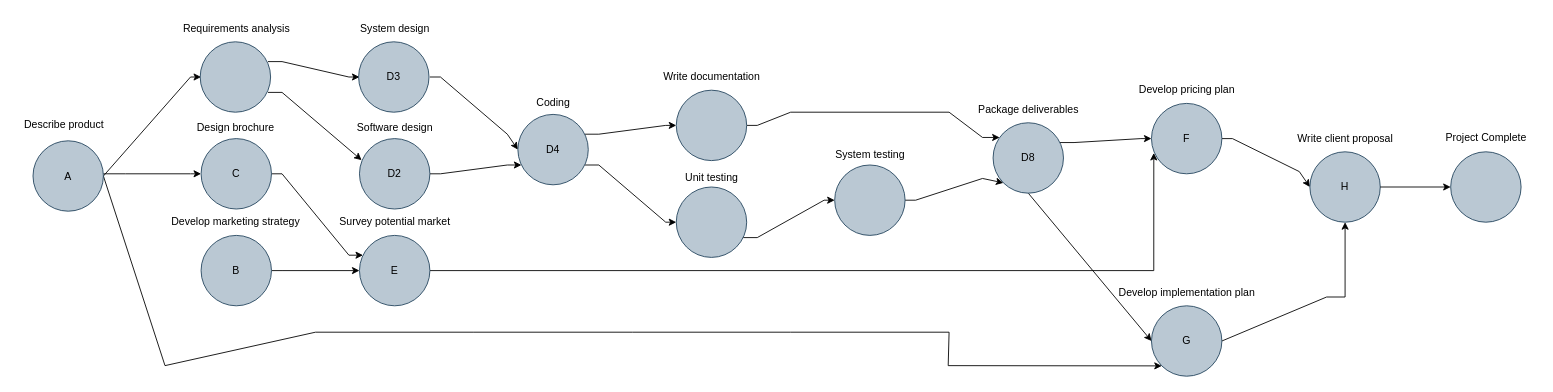
The diagram is 1553 pixels wide and 392 high, and some of its shapes have lost their labels. Each missing label, with the box of its shape:
D1: (199, 41, 271, 112)
D5: (675, 89, 747, 161)
D6: (675, 186, 747, 257)
D7: (834, 164, 905, 235)
End: (1450, 151, 1521, 222)
